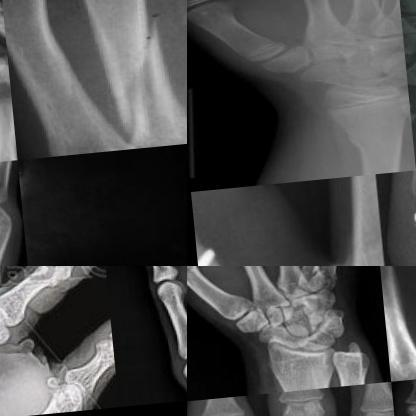fracture: (93, 14, 181, 154), (187, 186, 267, 265), (305, 87, 407, 126)
